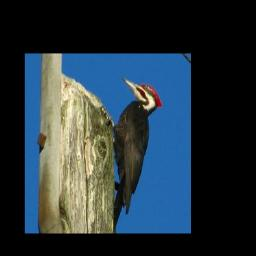Woodpecker: (103, 77, 166, 230)
